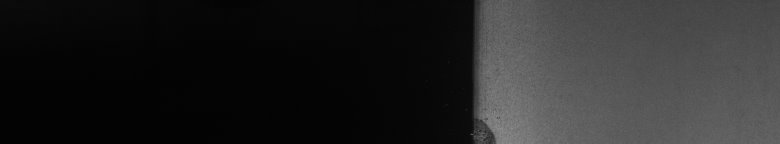hb: (484, 108, 504, 136)
